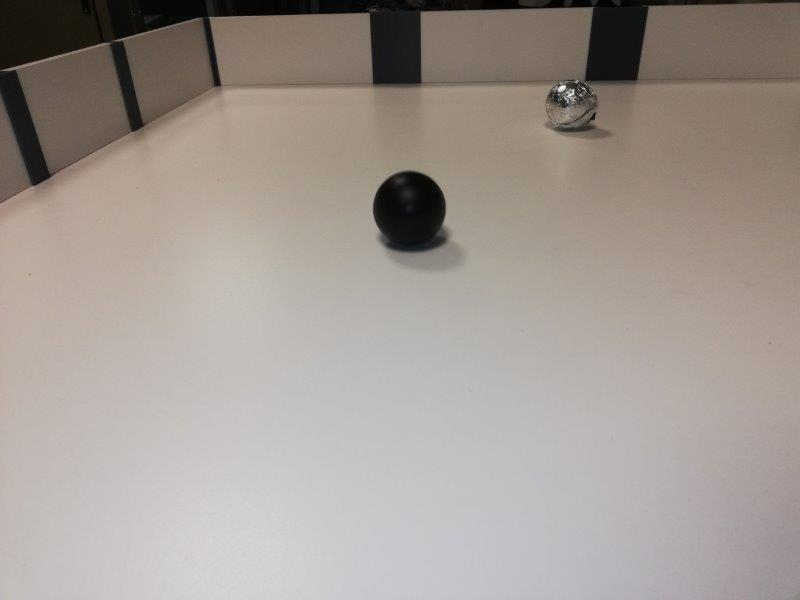bianca: (545, 79, 599, 130)
nera: (374, 171, 445, 248)
